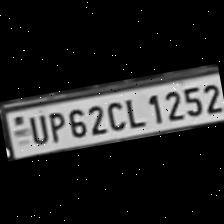1: (140, 90, 164, 126)
2: (158, 86, 184, 123), (82, 100, 108, 136), (198, 80, 222, 116)
5: (177, 83, 203, 118)
6: (62, 104, 86, 140)
C: (102, 97, 126, 133)
L: (120, 94, 144, 130)
P: (43, 108, 66, 144)
U: (22, 111, 47, 146)
